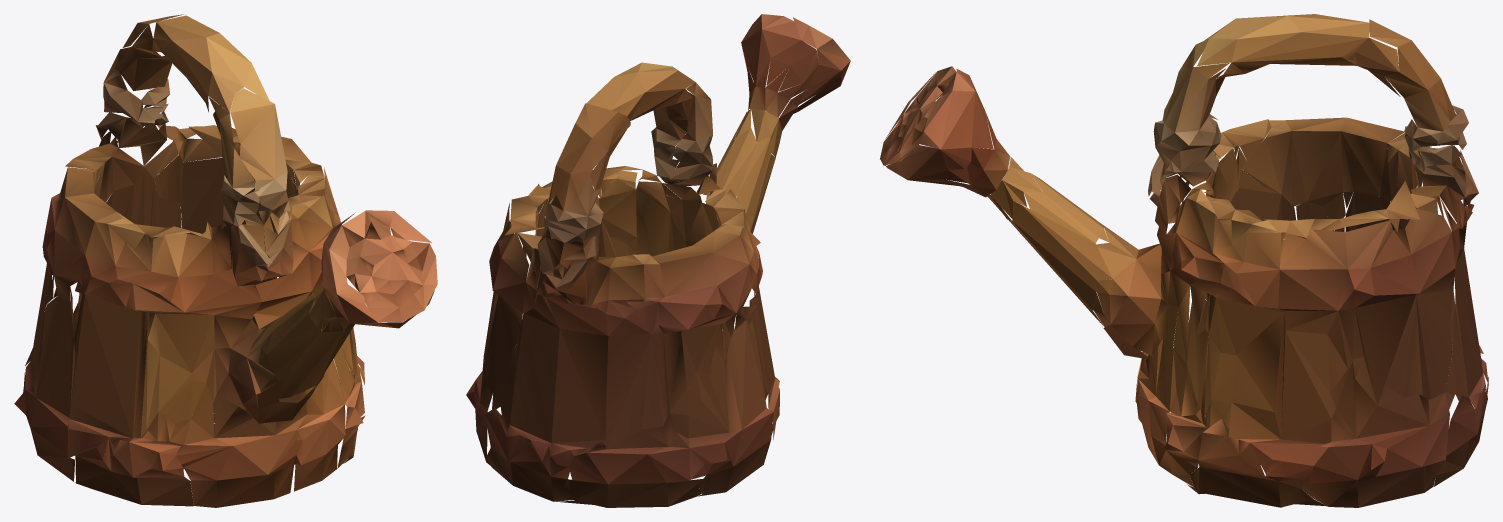
The model's file is wateringCan.glb.
3 views of the same model, side by side, from view 1: azimuth 30°, elevation 25°; view 2: azimuth 150°, elevation 25°; view 3: azimuth 270°, elevation 25° (orthographic). The views are drawn at different scales.
Parts seen in each view (by area): view 1: 0_wateringCan; view 2: 0_wateringCan; view 3: 0_wateringCan.
Boxes of the visible parts, <box> form: 0_wateringCan: <box>14,14,437,507</box>; 0_wateringCan: <box>466,14,850,507</box>; 0_wateringCan: <box>880,14,1488,507</box>.
Bounding box in the file's own units: 0.2406 × 0.3271 × 0.4198.
